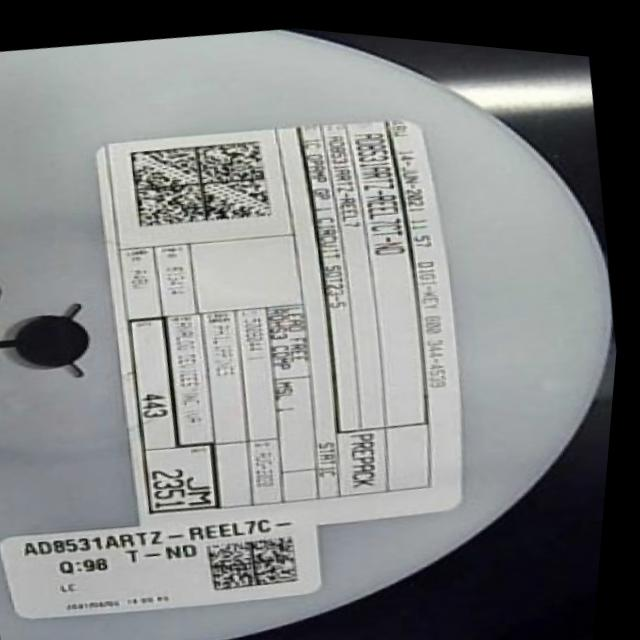datamatrix: (126, 123, 286, 240), (211, 521, 315, 595)
